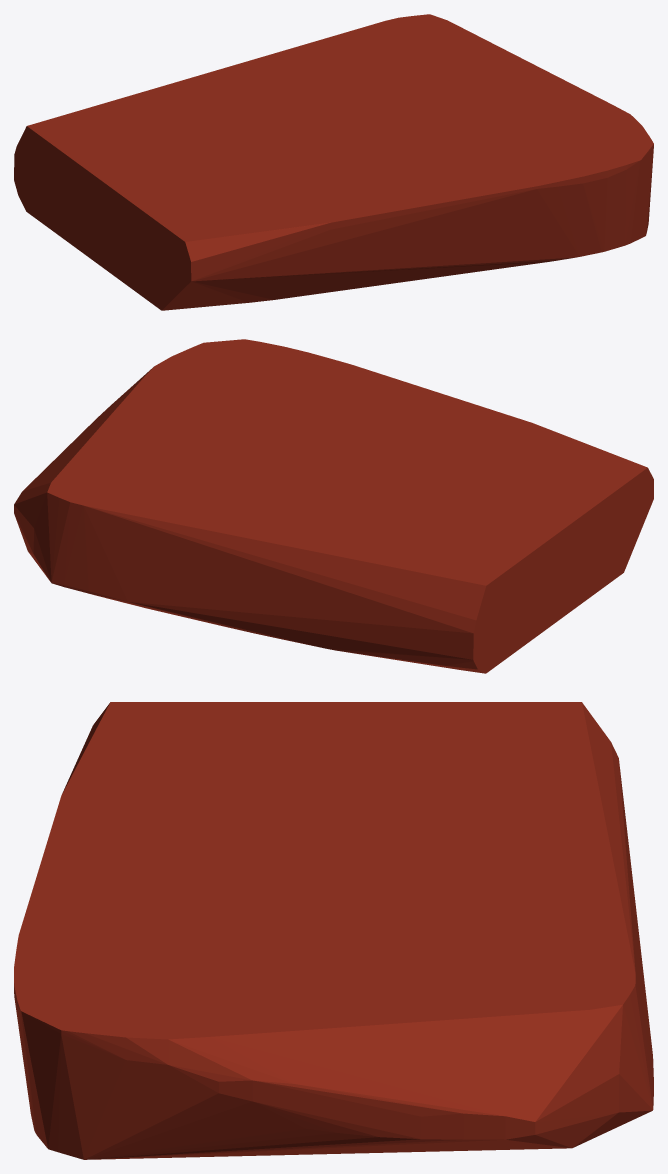
The picture shows the model from 3 angles, top to bottom: view 1: azimuth 30°, elevation 25°; view 2: azimuth 150°, elevation 25°; view 3: azimuth 270°, elevation 25°; orthographic projection. The views are drawn at different scales.
Size of the model in its own units: 0.0588 by 0.01 by 0.0455.
